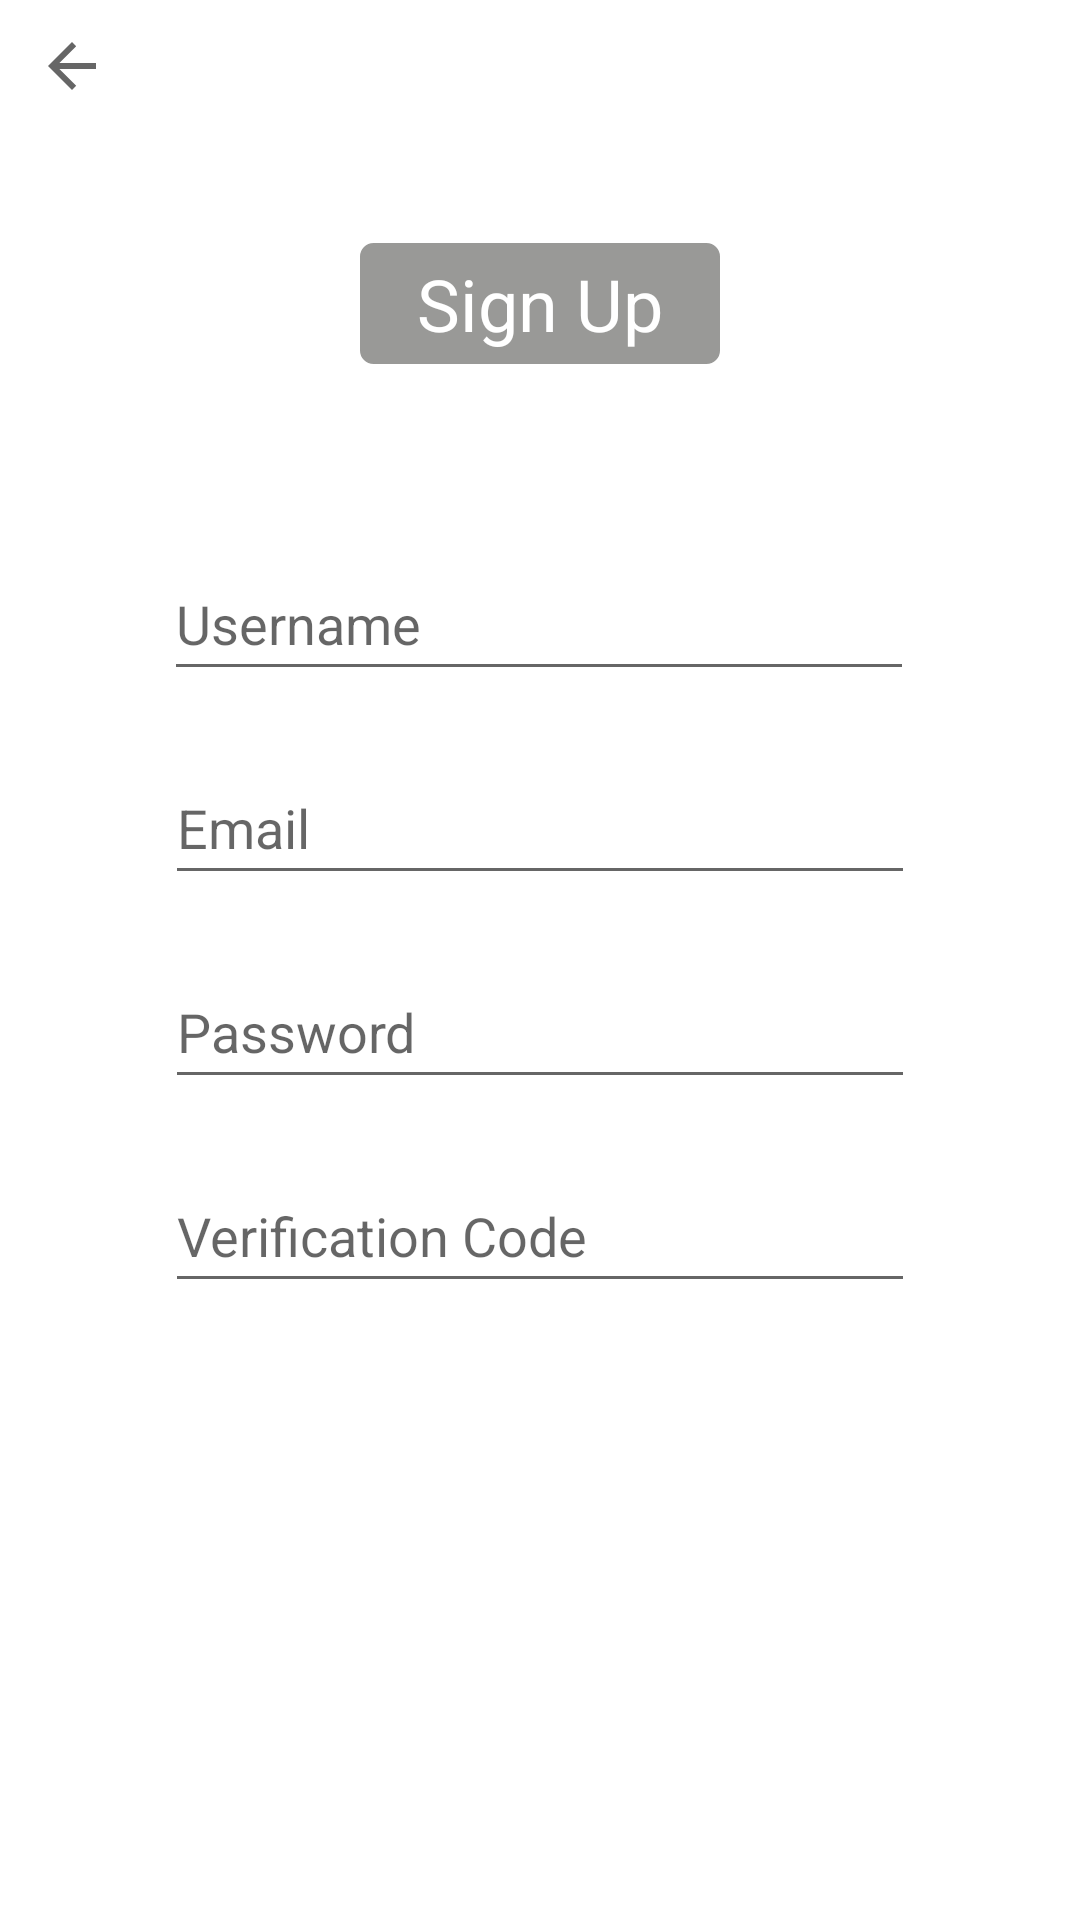

Where icons sit on this 1080px x 1920px app screen, as bbox=[x1, y1, x2, y2]:
Return to Login page: bbox=[48, 42, 96, 90]
